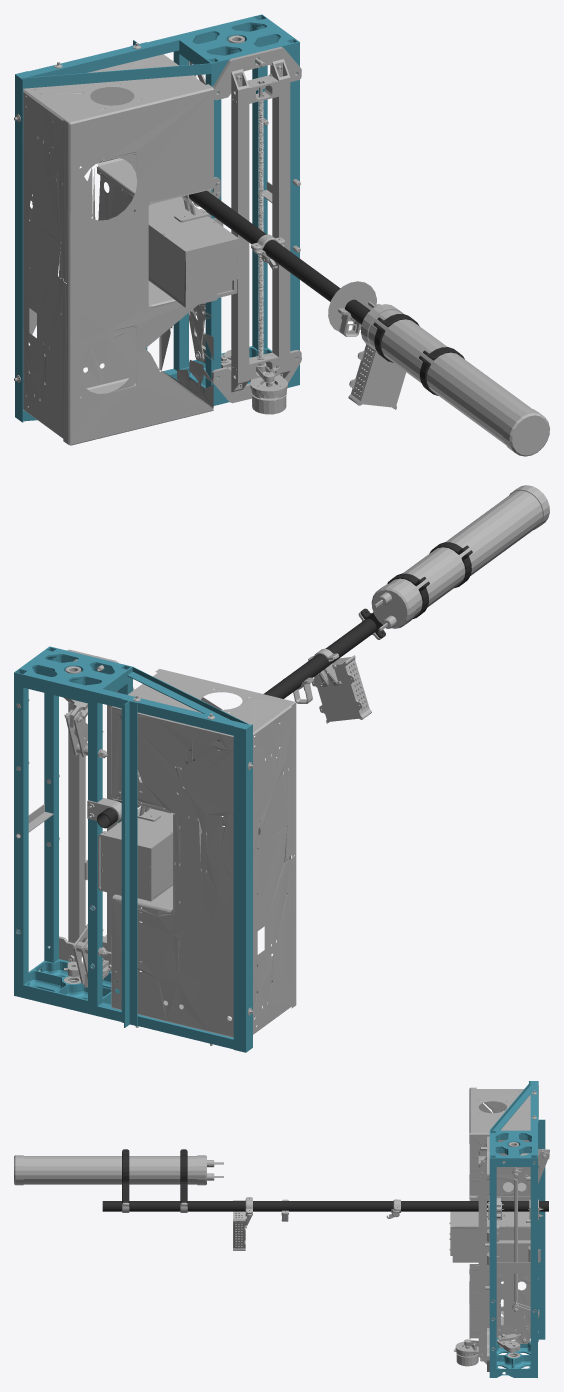
File: rover_chassis.glb
3 renders of one model, top to bottom at view 1: azimuth 30°, elevation 25°; view 2: azimuth 150°, elevation 25°; view 3: azimuth 270°, elevation 25°, orthographic. The views are drawn at different scales.
Visible parts, largest first — view 1: chassis_1, chassis_2, chassis_3; view 2: chassis_1, chassis_2, chassis_3; view 3: chassis_1, chassis_2, chassis_3.
Boxes of the visible parts, left/top/right/bottom form: chassis_1: left=14, top=35, right=549, bottom=456; chassis_2: left=15, top=14, right=299, bottom=422; chassis_3: left=189, top=190, right=464, bottom=395; chassis_1: left=15, top=485, right=549, bottom=1045; chassis_2: left=14, top=646, right=252, bottom=1052; chassis_3: left=97, top=542, right=472, bottom=828; chassis_1: left=14, top=1087, right=549, bottom=1371; chassis_2: left=489, top=1081, right=545, bottom=1377; chassis_3: left=102, top=1149, right=548, bottom=1211.
Bounding box in the file's own units: 48.65 × 65.09 × 140.
